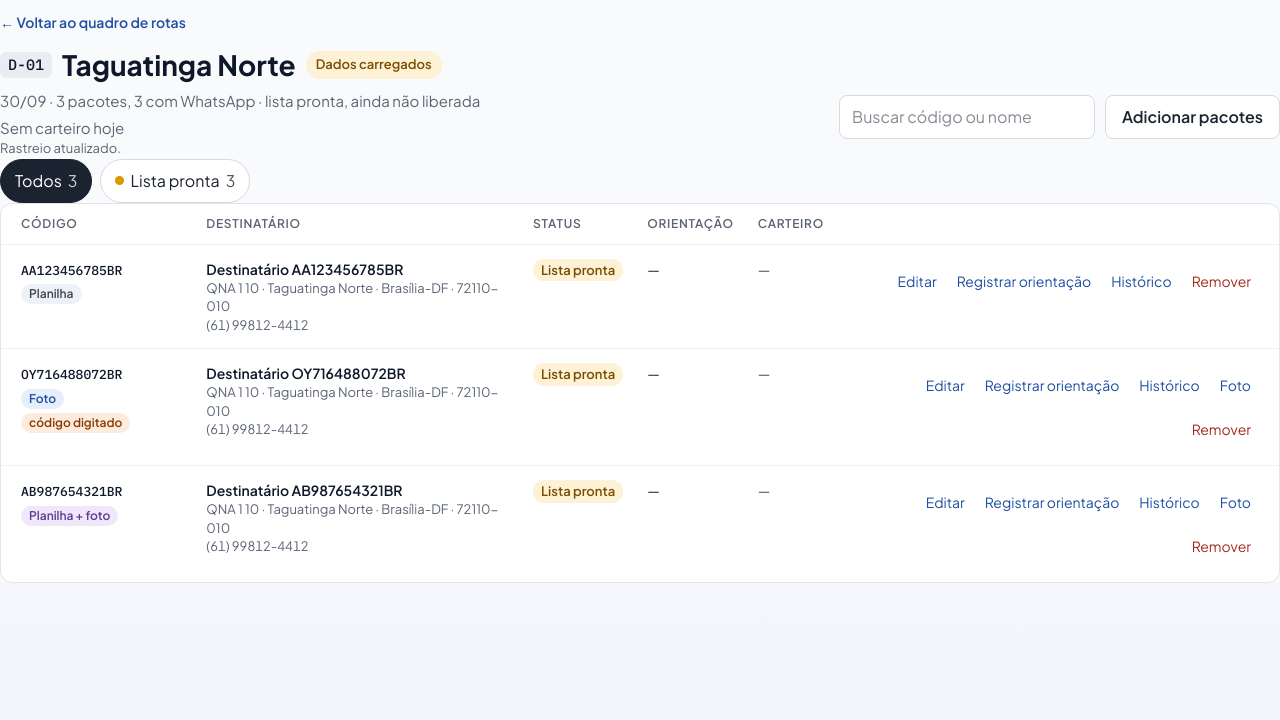
Scenario: Extensões do supervisor (captura, task_06) › UT-121 (histórico) mostra as sobrescritas com o valor antes e depois
Click the button with aria-label "Histórico de AB987654321BR". click: [1170, 502]
box: [1131,480,1208,524]
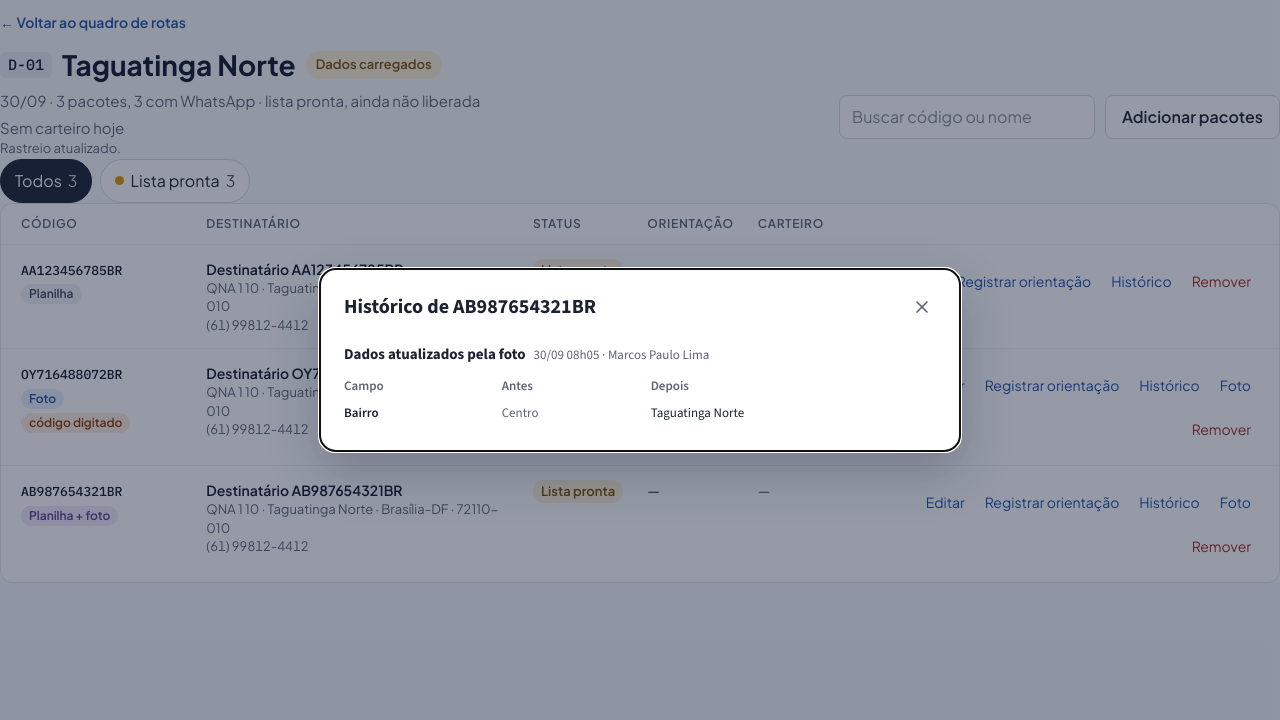
expect the text "Dados atualizados pela foto" is shown: met, box [344,343,526,366]
expect the text "Centro" is shown: met, box [502,399,651,427]
expect the text "Taguatinga Norte" is shown: met, box [651,399,936,427]
